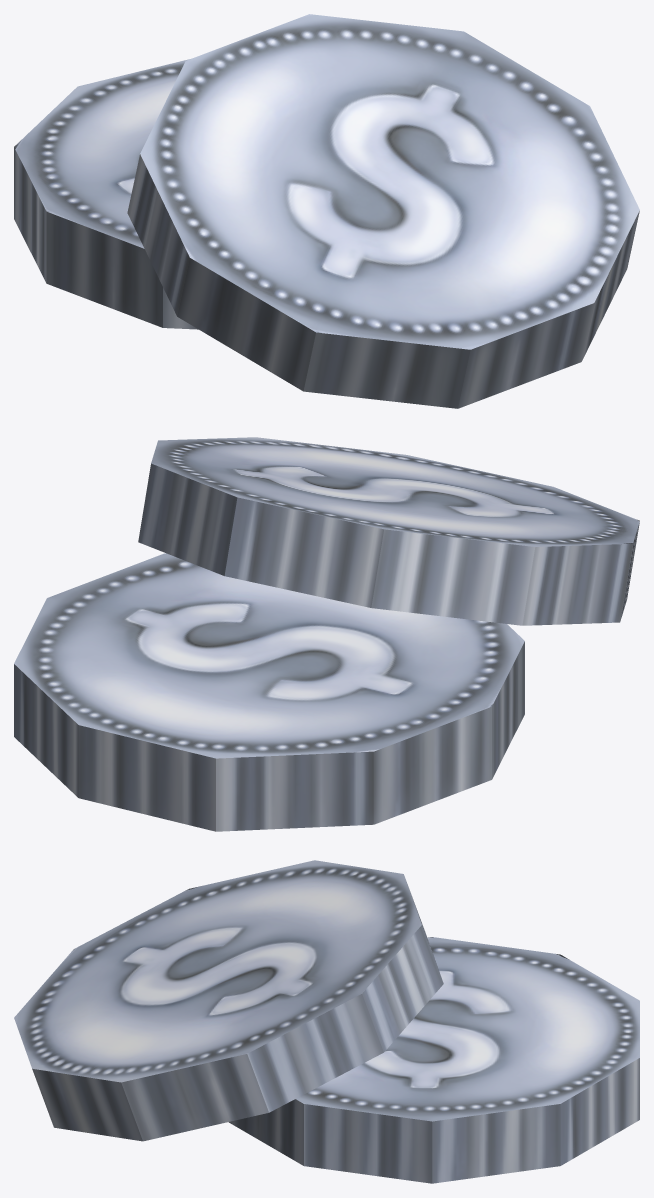
The model's file is coin_005.fbx.
The picture shows the model from 3 angles, top to bottom: view 1: azimuth 30°, elevation 25°; view 2: azimuth 150°, elevation 25°; view 3: azimuth 270°, elevation 25°; orthographic projection. The views are drawn at different scales.
Visible parts, largest first — view 1: coin_005; view 2: coin_005; view 3: coin_005.
Boxes of the visible parts, x1=… form: coin_005: x1=14, y1=14, x2=639, y2=408; coin_005: x1=14, y1=437, x2=639, y2=831; coin_005: x1=14, y1=860, x2=639, y2=1183.
Bounding box in the file's own units: 4.25 × 1.97 × 6.1.
